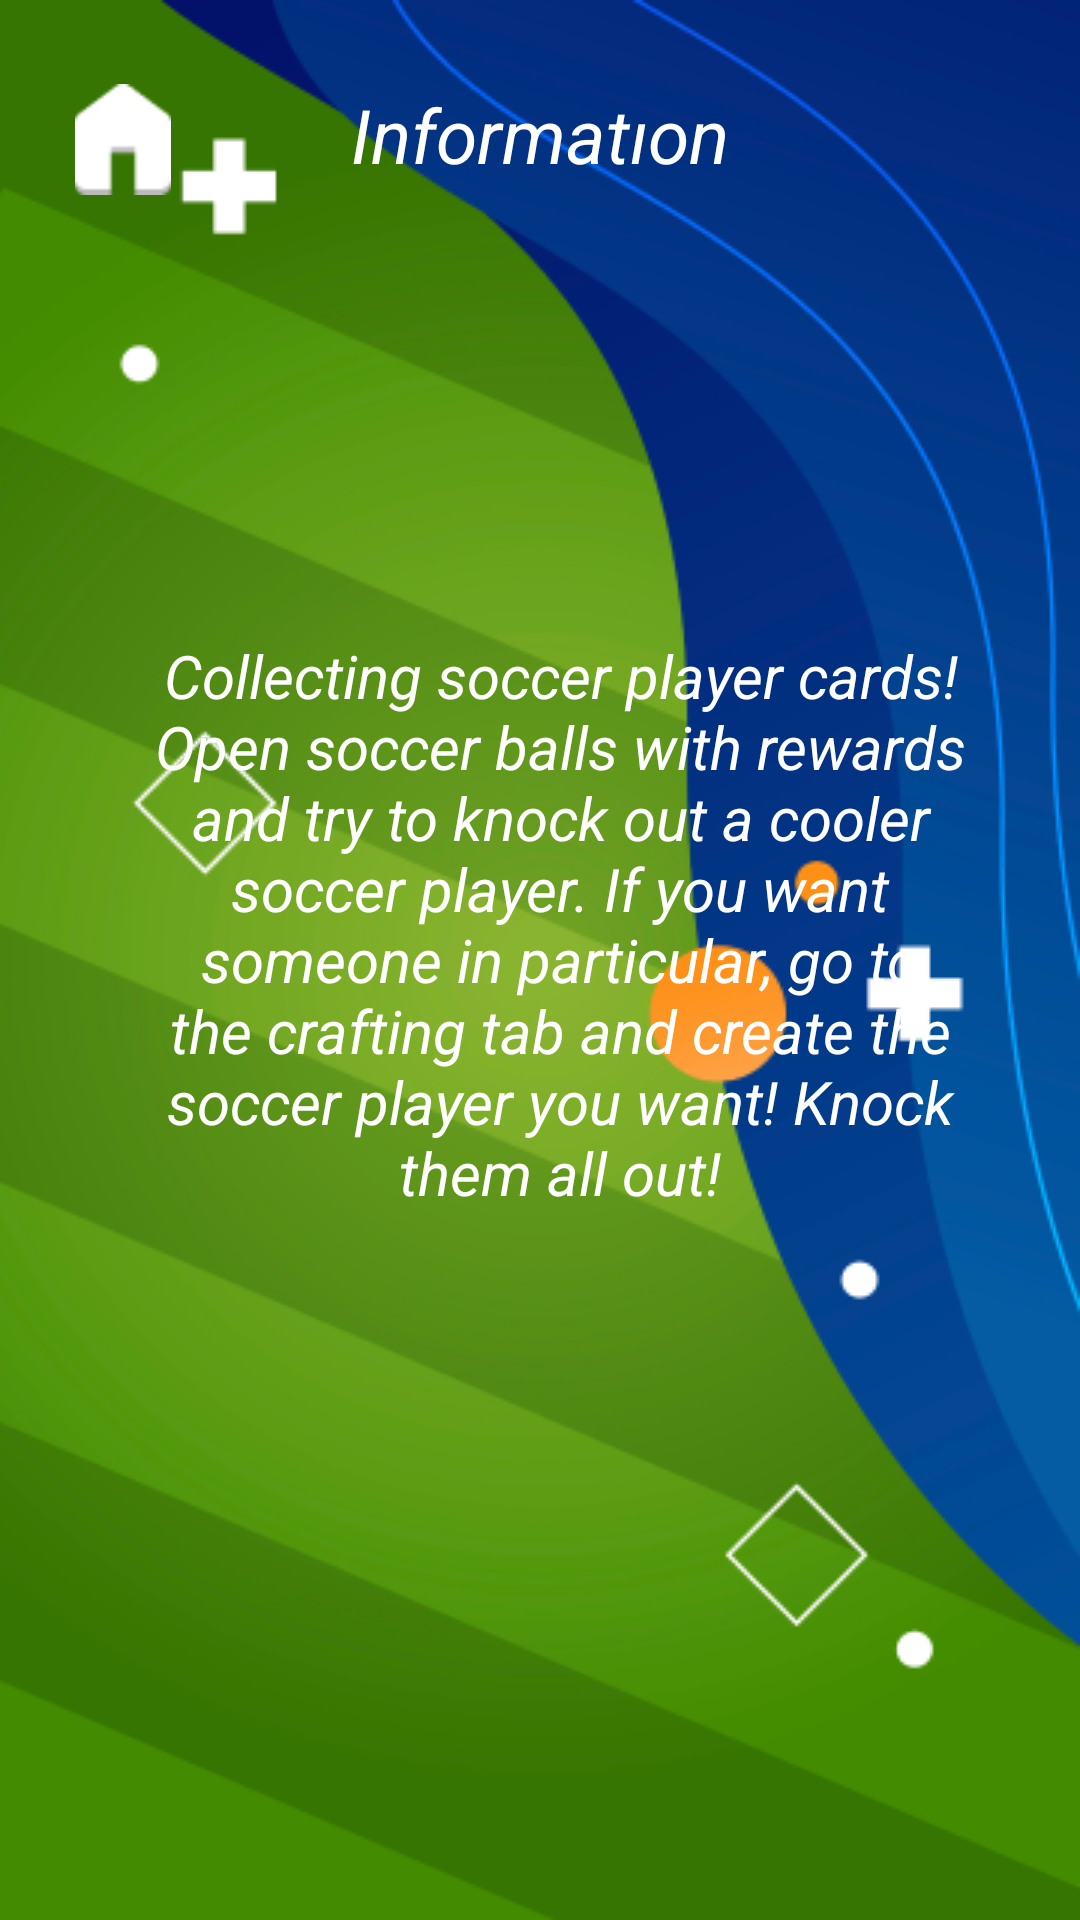

Icons on this 1080 × 1920 Android screen, each with its box as (x1, y1, x2, y2):
home: (75, 84, 171, 195)
